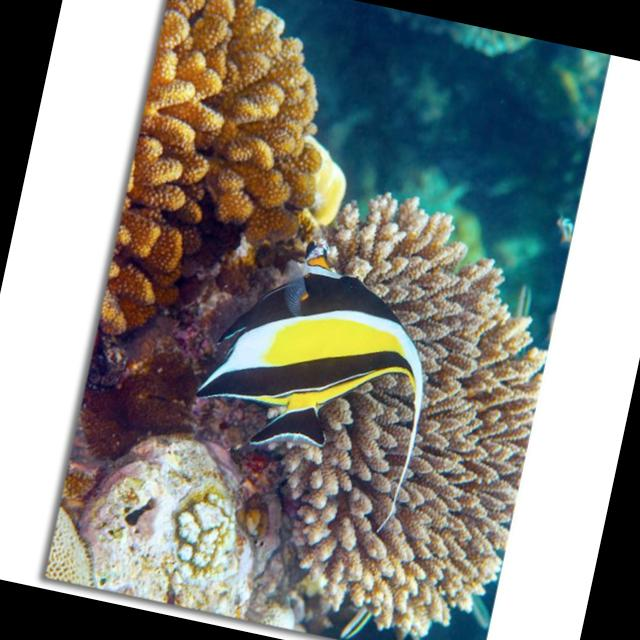MorishIdol: (172, 218, 452, 538)
